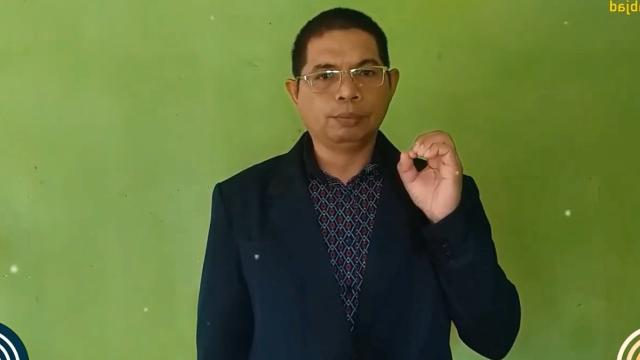O: (394, 128, 464, 217)
